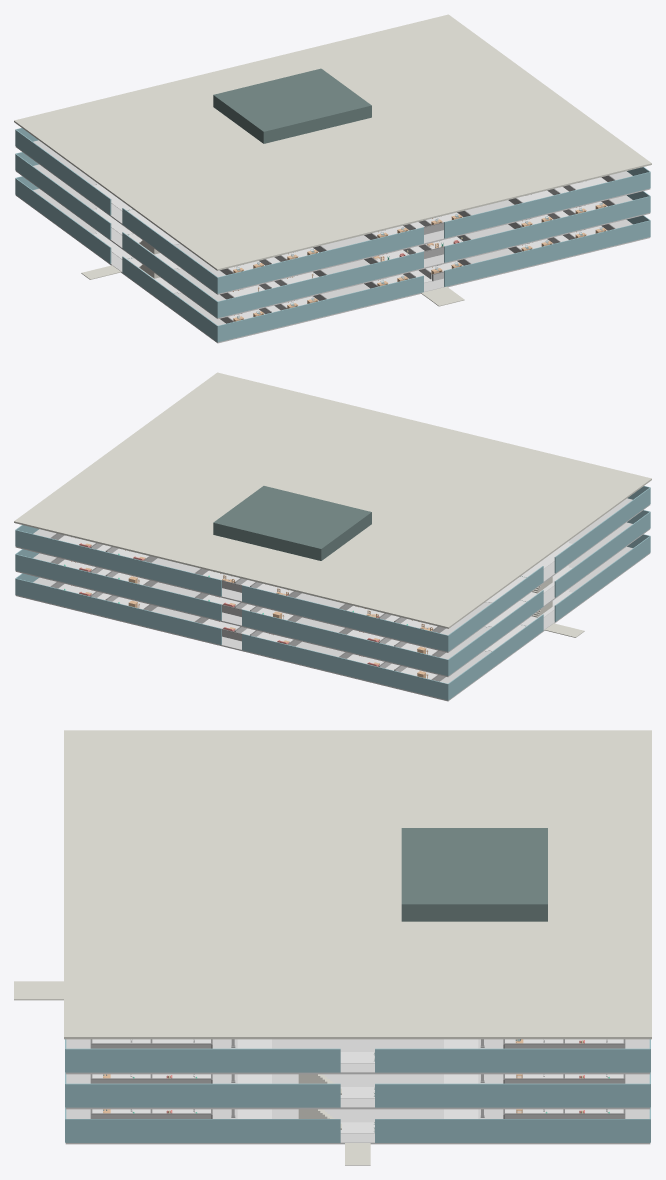
File: building.glb
The picture shows the model from 3 angles, top to bottom: view 1: azimuth 30°, elevation 25°; view 2: azimuth 150°, elevation 25°; view 3: azimuth 270°, elevation 25°; orthographic projection. The views are drawn at different scales.
Visible parts, largest first — view 1: Roof slab, Roof plant, Glazed facade.011, Glazed facade.002, Glazed facade.007, Glazed facade.010, Glazed facade.003, Glazed facade.006, Floor slab, Atrium ring floor.001, Atrium ring floor.003, Side facade.004 (+13 smaller); view 2: Roof slab, Roof plant, Glazed facade.009, Glazed facade, Glazed facade.005, Glazed facade.008, Glazed facade.001, Glazed facade.004, Floor slab, Atrium ring floor, Atrium ring floor.002, Side facade.005 (+9 smaller); view 3: Roof slab, Roof plant, Side facade.006, Side facade.007, Side facade.010, Side facade.011, Side facade.002, Side facade.003, Floor slab, Atrium side floor.003, Atrium side floor.001, Atrium ring floor.001 (+4 smaller).
Part boxes in pixels (box(x1,y1,x2,y2)): Roof slab: box(14, 14, 651, 270); Roof plant: box(213, 68, 371, 143); Glazed facade.011: box(444, 172, 650, 238); Glazed facade.002: box(217, 275, 423, 342); Glazed facade.007: box(444, 196, 650, 262); Glazed facade.010: box(217, 227, 423, 293); Glazed facade.003: box(444, 220, 650, 286); Glazed facade.006: box(217, 251, 423, 317); Floor slab: box(15, 188, 650, 343); Atrium ring floor.001: box(143, 195, 650, 318); Atrium ring floor.003: box(143, 171, 650, 294); Side facade.004: box(15, 154, 111, 239); Roof slab: box(14, 372, 651, 628); Roof plant: box(213, 486, 371, 560); Glazed facade.009: box(15, 530, 221, 596); Glazed facade: box(242, 633, 448, 700); Glazed facade.005: box(15, 554, 221, 620); Glazed facade.008: box(242, 585, 448, 651); Glazed facade.001: box(15, 578, 221, 644); Glazed facade.004: box(242, 609, 448, 675); Floor slab: box(15, 546, 650, 701); Atrium ring floor: box(15, 553, 522, 676); Atrium ring floor.002: box(15, 529, 522, 652); Side facade.005: box(554, 512, 650, 597); Roof slab: box(64, 730, 651, 1039); Roof plant: box(401, 828, 547, 921); Side facade.006: box(375, 1083, 650, 1107); Side facade.007: box(65, 1083, 340, 1107); Side facade.010: box(375, 1048, 650, 1072); Side facade.011: box(65, 1048, 340, 1072); Side facade.002: box(375, 1119, 650, 1142); Side facade.003: box(65, 1119, 340, 1142); Floor slab: box(65, 1109, 650, 1144); Atrium side floor.003: box(280, 1039, 435, 1074); Atrium side floor.001: box(280, 1074, 435, 1109); Atrium ring floor.001: box(65, 1074, 280, 1109).
Size of the model in its own units: 96 by 16.14 by 74.2.
